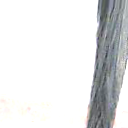crackTip: (83, 1, 128, 125)
